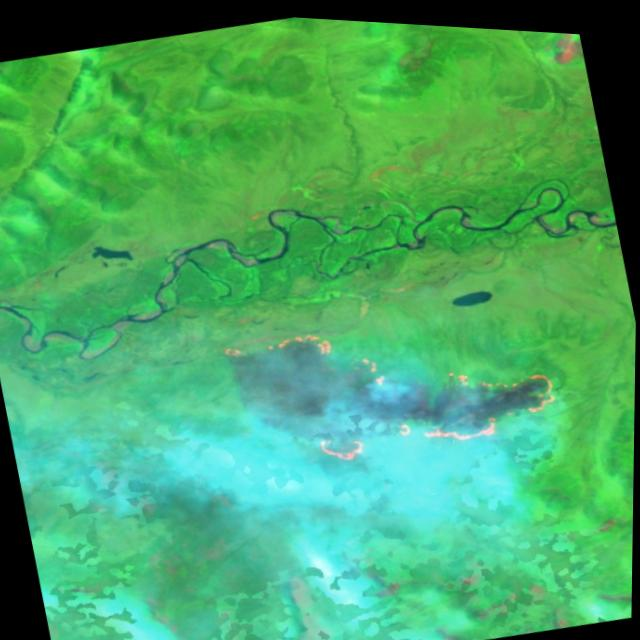fire: (209, 270, 572, 506)
